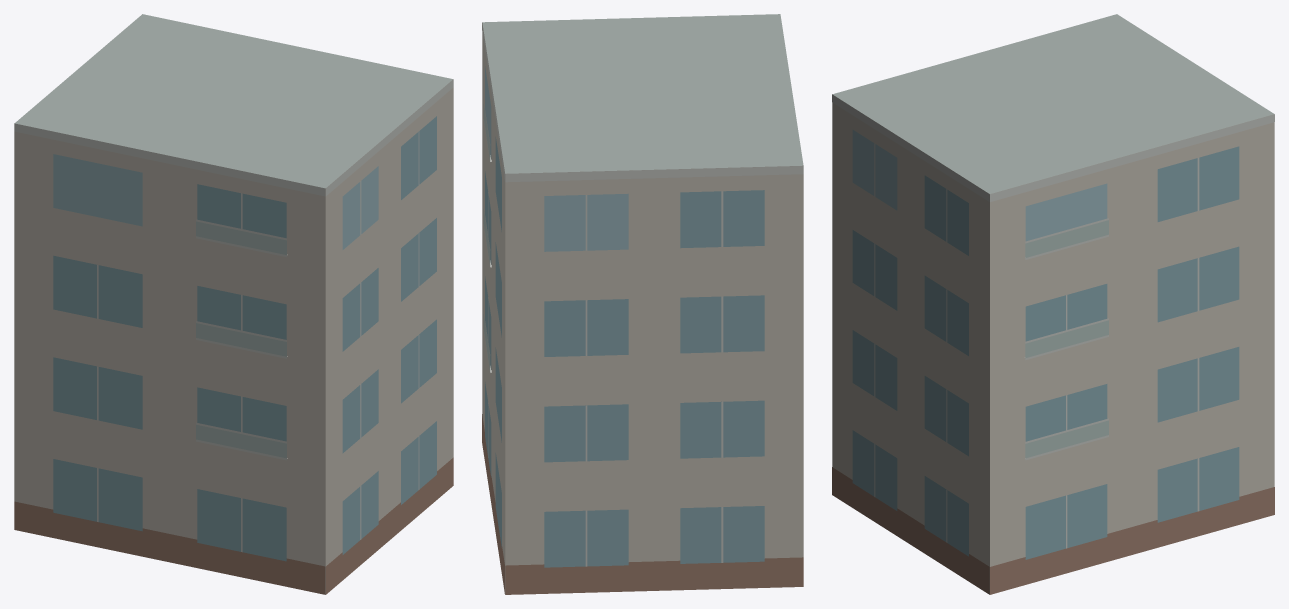
Rendered from residential-5d196426-cd3b-43e2-98b2-e96e4575674a.glb.
The picture shows the model from 3 angles, left to right: view 1: azimuth 30°, elevation 25°; view 2: azimuth 150°, elevation 25°; view 3: azimuth 270°, elevation 25°; orthographic projection. The views are drawn at different scales.
Visible parts, largest first — view 1: residential-5d196426-cd3b-43e2-98b2-e96e4575674a.tmp; view 2: residential-5d196426-cd3b-43e2-98b2-e96e4575674a.tmp; view 3: residential-5d196426-cd3b-43e2-98b2-e96e4575674a.tmp.
Boxes of the visible parts, x1=… form: residential-5d196426-cd3b-43e2-98b2-e96e4575674a.tmp: x1=14, y1=14, x2=453, y2=594; residential-5d196426-cd3b-43e2-98b2-e96e4575674a.tmp: x1=482, y1=14, x2=803, y2=594; residential-5d196426-cd3b-43e2-98b2-e96e4575674a.tmp: x1=832, y1=14, x2=1274, y2=594.
Size of the model in its own units: 11.78 by 12.2 by 12.22.
